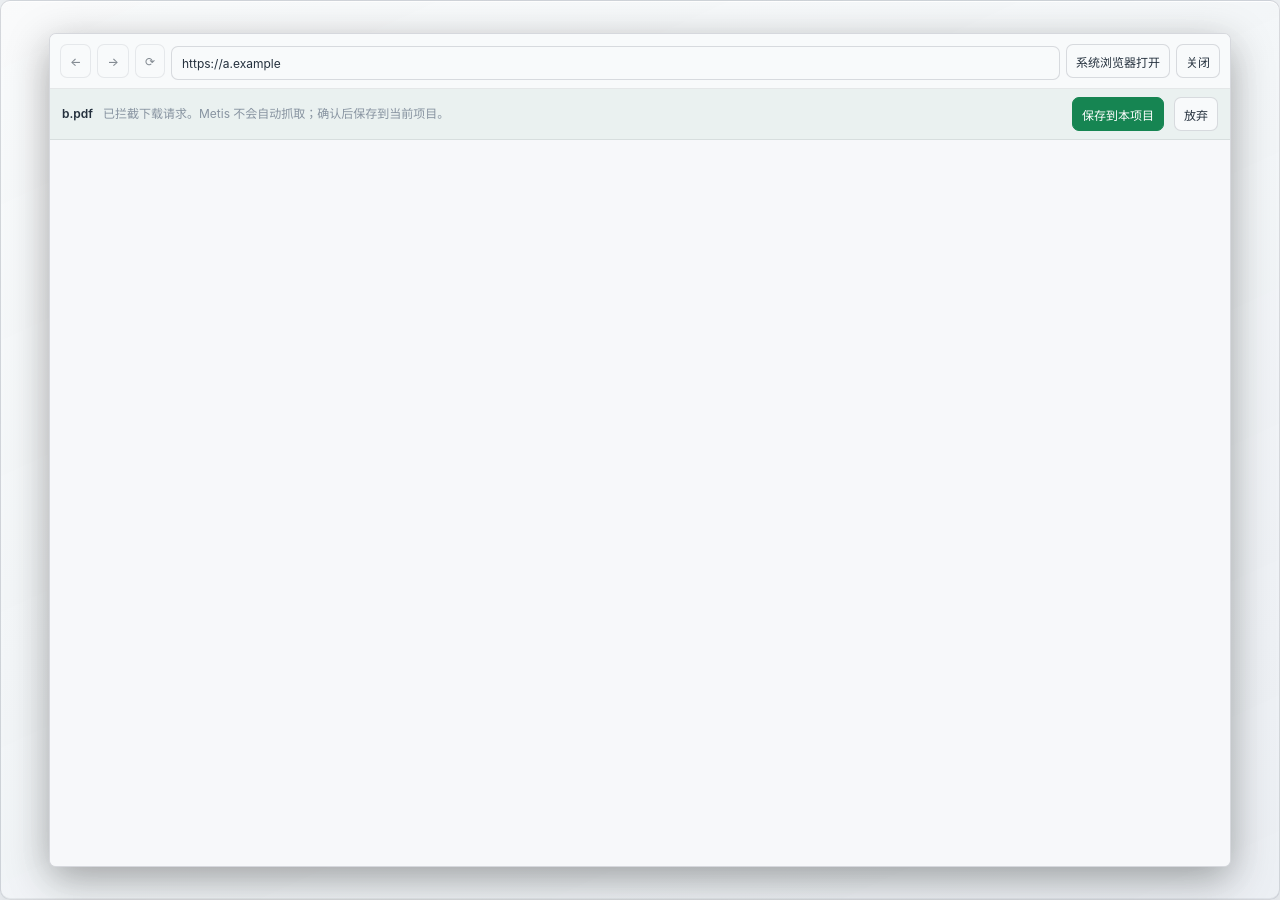
EmbeddedBrowserOverlay › 保存失败时提示错误且确认条保留
Click the button with test id "browser-overlay-accept": (1118, 114) [1072,97,1164,131]
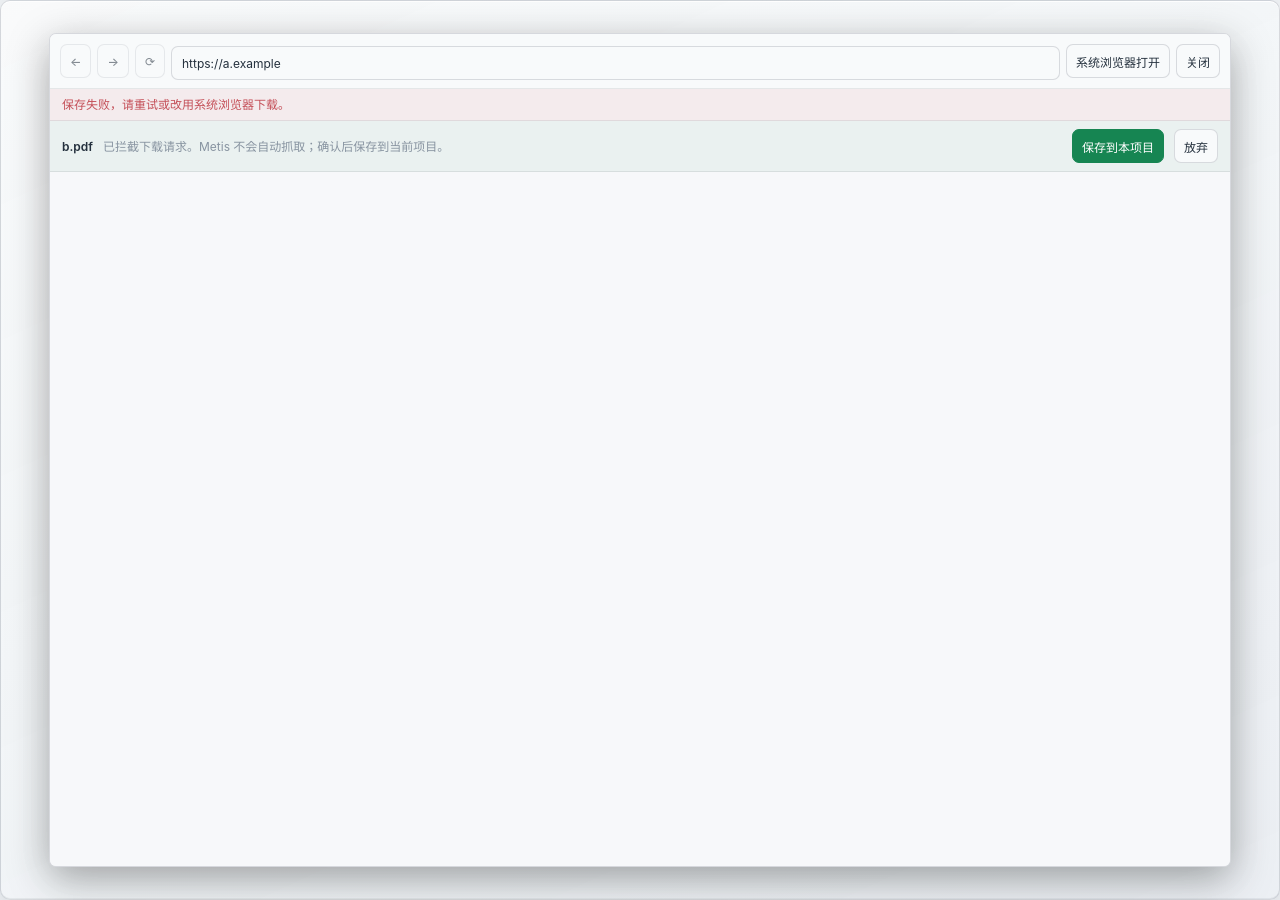
expect the element with test id "browser-overlay-download" is shown: met, box [50,121,1230,171]
expect the message with test id "browser-overlay-notice" shows "保存失败": met, box [62,97,290,112]
